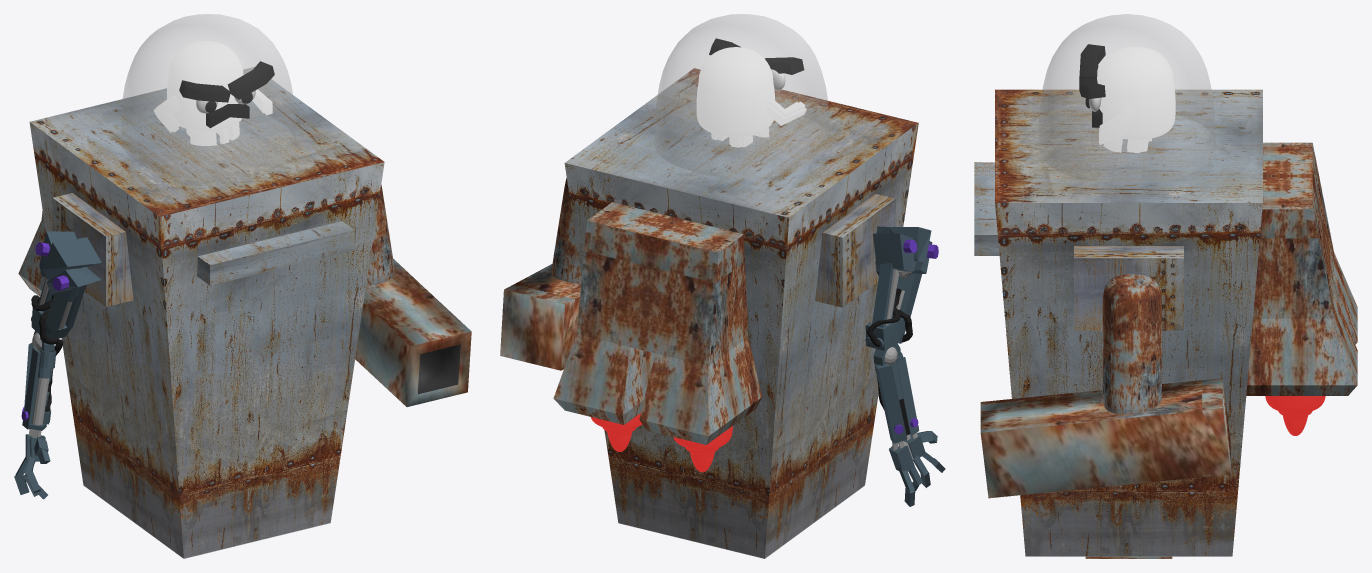
File: ROBOTFANTASMA2.glb
The picture shows the model from 3 angles, left to right: view 1: azimuth 30°, elevation 25°; view 2: azimuth 150°, elevation 25°; view 3: azimuth 270°, elevation 25°; orthographic projection. The views are drawn at different scales.
Visible parts, largest first — view 1: Cube, Cubo, Cube.005, group945340242, Cube.001, Cubo.001, Cubo.002, Cubo.009, Cube.004, Cubo.006, Cubo.010; view 2: Cube, Cubo.006, Cubo, group945340242, Cube.001, Cube.005, Cubo.002, Cube.006, Cube.004, Cubo.009; view 3: Cube, Cubo, Cube.005, Cubo.006, Cube.004, Cube.001, Cubo.002, Cubo.001, Cube.006, Cubo.009.
Part boxes in pixels (x1,y1,x2,y2): Cube: (29,67,384,558); Cubo: (121,14,295,178); Cube.005: (355,258,471,406); group945340242: (14,231,101,499); Cube.001: (153,41,272,145); Cubo.001: (197,221,354,285); Cubo.002: (52,193,133,306); Cubo.009: (179,61,274,102); Cube.004: (366,185,394,285); Cubo.006: (18,211,45,296); Cubo.010: (206,103,249,128); Cube: (564,68,918,558); Cubo.006: (553,202,762,444); Cubo: (655,14,828,178); group945340242: (865,226,945,506); Cube.001: (696,47,806,147); Cube.005: (500,264,580,370); Cubo.002: (815,194,895,307); Cube.006: (591,413,732,472); Cube.004: (551,178,581,283); Cubo.009: (709,38,804,74); Cube: (995,89,1262,556); Cubo: (1039,14,1215,183); Cube.005: (980,378,1230,498); Cubo.006: (1246,142,1357,395); Cube.004: (1102,274,1161,413); Cube.001: (1098,46,1175,152); Cubo.002: (1074,246,1183,330); Cubo.001: (974,162,999,255); Cube.006: (1265,396,1325,435); Cubo.009: (1079,44,1105,98).
Bounding box in the file's own units: 3.16 × 3.97 × 2.66.
Materials: 13 (3 with a texture image).
